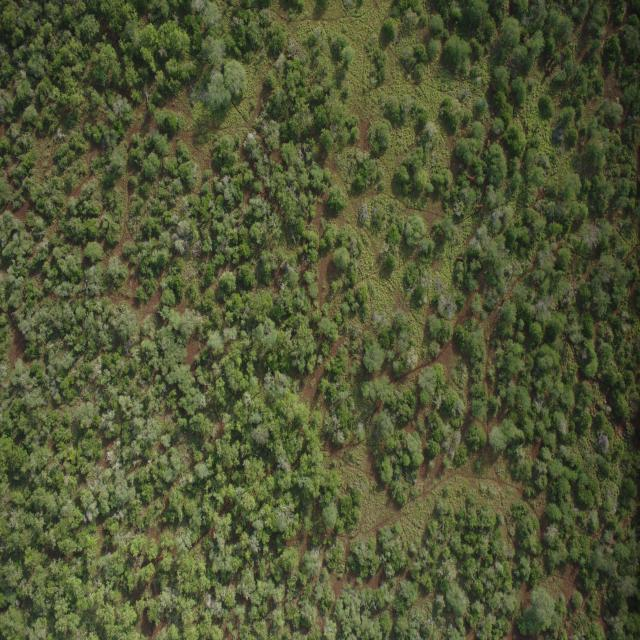elephant: (546, 60, 555, 74), (439, 227, 445, 245), (490, 81, 498, 93), (465, 174, 474, 184), (484, 185, 491, 197), (474, 203, 484, 211), (522, 34, 531, 42), (544, 52, 553, 60), (470, 256, 478, 264), (584, 49, 590, 59), (478, 256, 484, 265), (486, 139, 492, 147), (462, 256, 468, 263), (460, 166, 464, 175), (502, 296, 507, 303), (446, 163, 451, 169), (456, 256, 462, 261)
